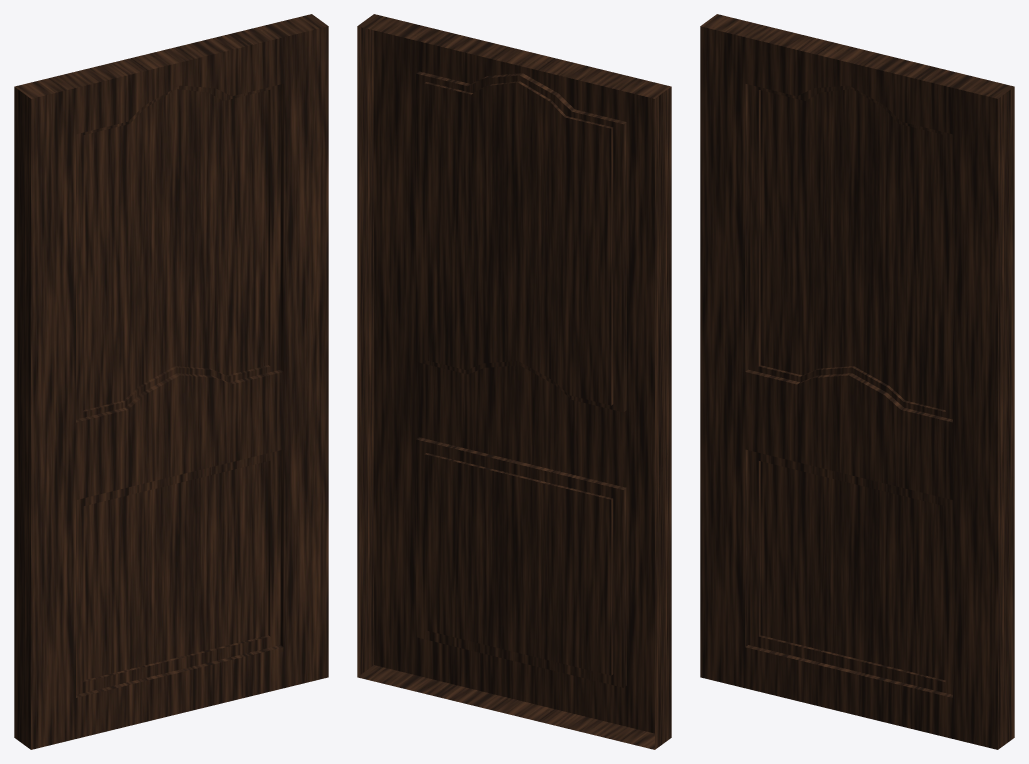
The model's file is Door3_dark.glb.
The picture shows the model from 3 angles, left to right: view 1: azimuth 30°, elevation 25°; view 2: azimuth 150°, elevation 25°; view 3: azimuth 330°, elevation 25°; orthographic projection.
Visible parts, largest first — view 1: Door3_dark; view 2: Door3_dark; view 3: Door3_dark.
Part boxes in pixels (box(x1,y1,x2,y2)): Door3_dark: box(14, 14, 328, 749); Door3_dark: box(357, 14, 671, 749); Door3_dark: box(700, 14, 1014, 749).
Bounding box in the file's own units: 0.4386 × 0.9169 × 0.0429.
1 material, 1 textured.
